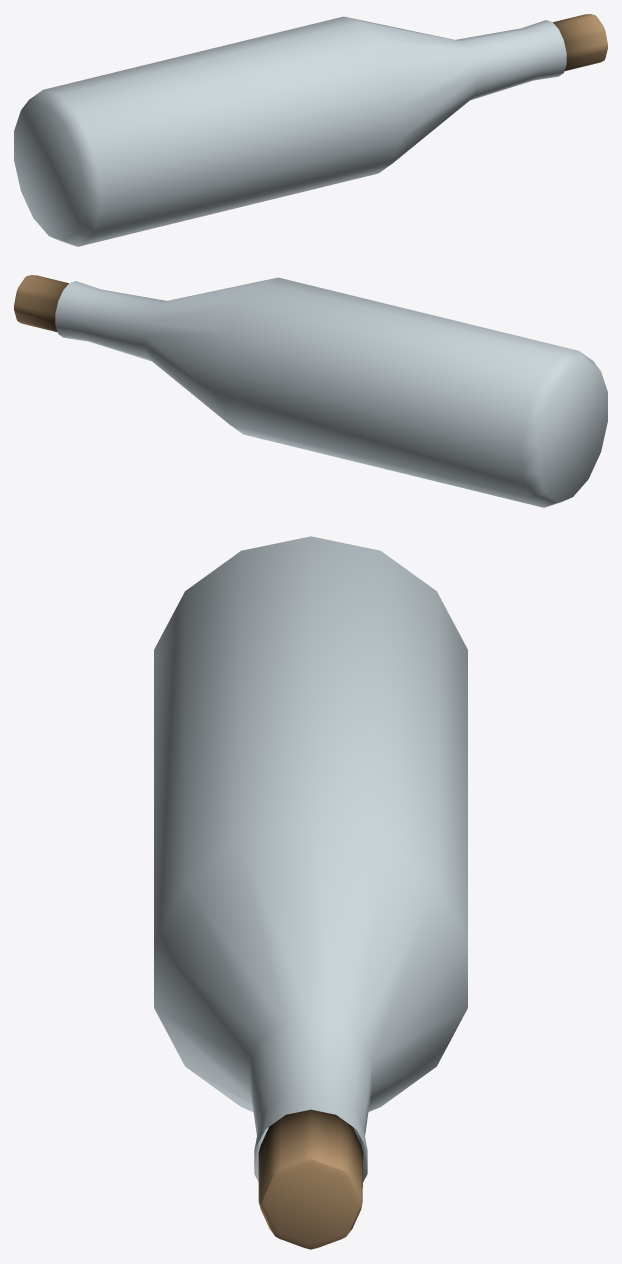
The model's file is fishing_bottle.glb.
The picture shows the model from 3 angles, top to bottom: view 1: azimuth 30°, elevation 25°; view 2: azimuth 150°, elevation 25°; view 3: azimuth 270°, elevation 25°; orthographic projection. The views are drawn at different scales.
Visible parts, largest first — view 1: PART; view 2: PART; view 3: PART.
Boxes of the visible parts, left/top/right/bottom form: PART: left=14, top=14, right=607, bottom=246; PART: left=14, top=275, right=607, bottom=507; PART: left=154, top=536, right=467, bottom=1249.
Size of the model in its own units: 0.283 by 0.072 by 0.0702.
